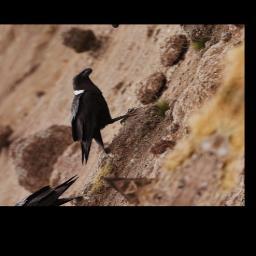Crow: (31, 63, 156, 174)
